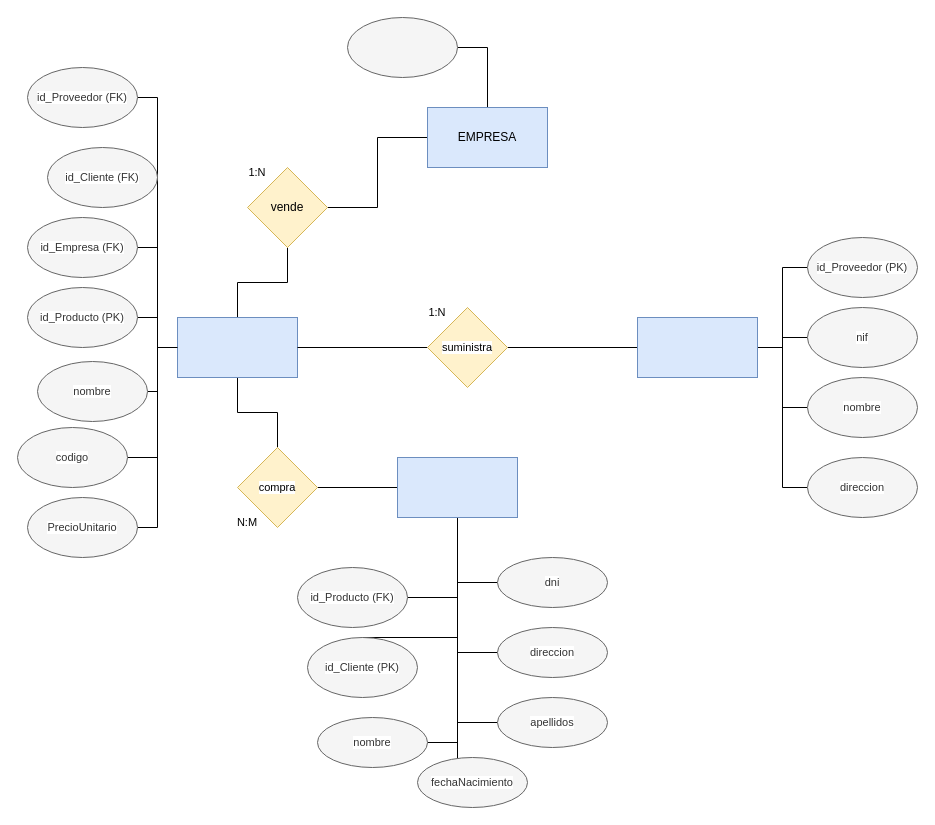
Image size: 935x825. Some labels were removed from this diagram. Each missing label, with the centre of its shape:
CLIENTE: pixel 457 487
id_Empresa (PK): pixel 402 47
PRODUCTO: pixel 237 347
PROVEEDOR: pixel 697 347
